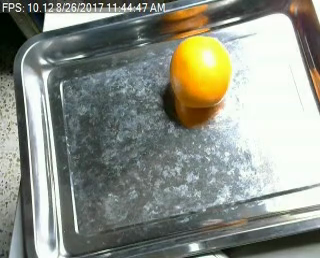Orange: (169, 36, 231, 109)
